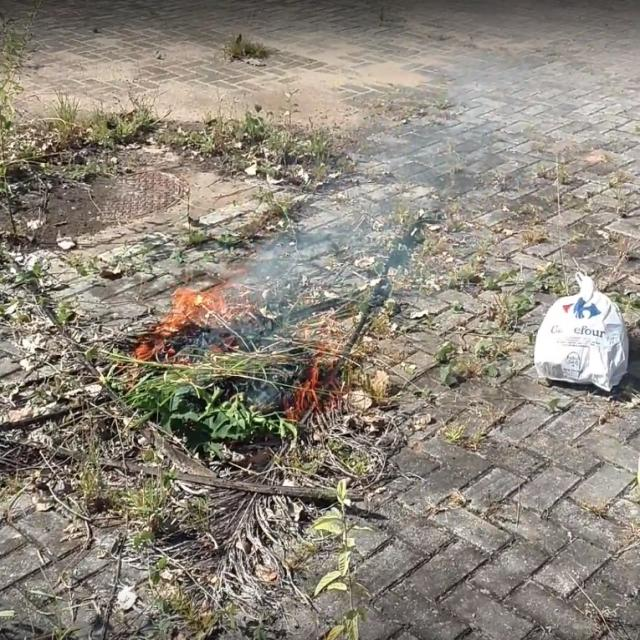fire: (133, 286, 230, 352), (282, 358, 347, 421)
smoke: (244, 223, 350, 307)
